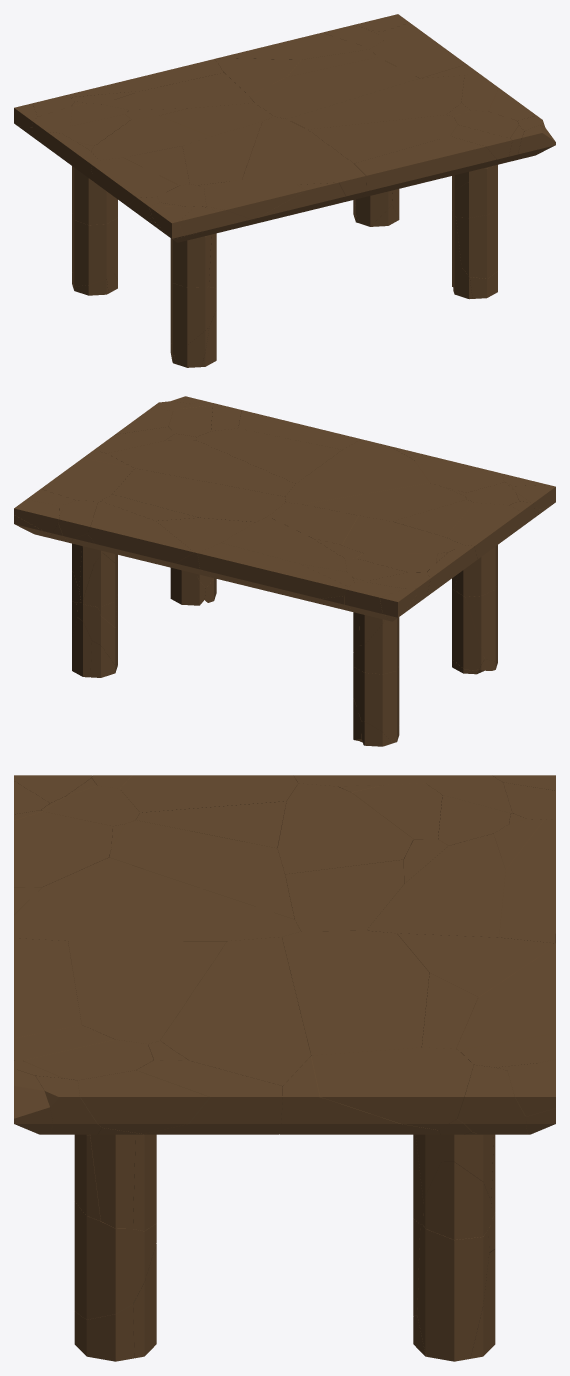
Rendered from table4-pieces2.fbx.
3 views of the same model, one above another, from view 1: azimuth 30°, elevation 25°; view 2: azimuth 150°, elevation 25°; view 3: azimuth 270°, elevation 25° (orthographic). The views are drawn at different scales.
Visible parts, largest first — view 1: table4_cell.052, table4_cell.087, table4_cell.092, table4_cell.005, table4_cell.081, table4_cell.076, table4_cell.039, table4_cell.050, table4_cell.077, table4_cell.066, table4_cell.068, table4_cell.098 (+37 smaller); view 2: table4_cell.052, table4_cell.087, table4_cell.092, table4_cell.089, table4_cell.071, table4_cell.081, table4_cell.039, table4_cell.076, table4_cell.050, table4_cell.066, table4_cell.046, table4_cell.098 (+35 smaller); view 3: table4_cell.052, table4_cell.087, table4_cell.092, table4_cell.081, table4_cell.046, table4_cell.076, table4_cell.039, table4_cell.050, table4_cell.001, table4_cell.008, table4_cell.022, table4_cell.027 (+36 smaller).
Boxes of the visible parts, x1,y1,x2,y2 form: table4_cell.052: (242,116,366,209); table4_cell.087: (249,57,419,118); table4_cell.092: (287,75,464,129); table4_cell.005: (354,136,496,197); table4_cell.081: (308,115,457,163); table4_cell.076: (182,121,261,185); table4_cell.039: (102,73,253,109); table4_cell.050: (91,115,210,160); table4_cell.077: (204,179,305,219); table4_cell.066: (72,212,117,286); table4_cell.068: (170,278,216,355); table4_cell.098: (90,157,179,205); table4_cell.052: (285,439,429,504); table4_cell.087: (113,468,285,522); table4_cell.092: (107,440,295,496); table4_cell.089: (197,543,348,598); table4_cell.071: (83,501,193,563); table4_cell.081: (196,428,341,483); table4_cell.039: (212,516,346,596); table4_cell.076: (302,483,466,521); table4_cell.050: (342,515,462,553); table4_cell.066: (353,665,399,741); table4_cell.046: (41,458,134,501); table4_cell.098: (446,502,521,558); table4_cell.052: (14,857,300,941); table4_cell.087: (282,930,429,1055); table4_cell.092: (160,937,310,1133); table4_cell.081: (68,941,226,1043); table4_cell.046: (311,1047,473,1130); table4_cell.076: (109,820,294,919); table4_cell.039: (366,833,505,937); table4_cell.050: (277,783,413,874); table4_cell.001: (417,1224,489,1361); table4_cell.008: (74,1202,156,1319); table4_cell.022: (136,1060,282,1134); table4_cell.027: (285,859,404,931).
Bounding box in the file's own units: 8.5 × 3.57 × 6.05.
